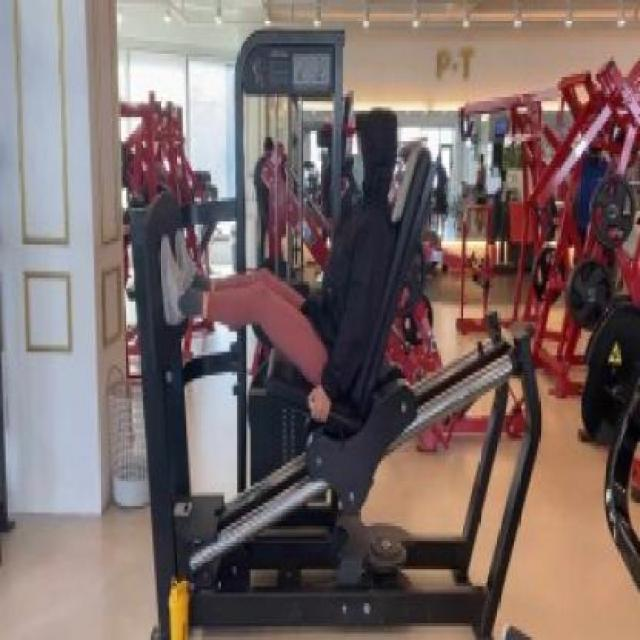leg press: (113, 20, 544, 640)
